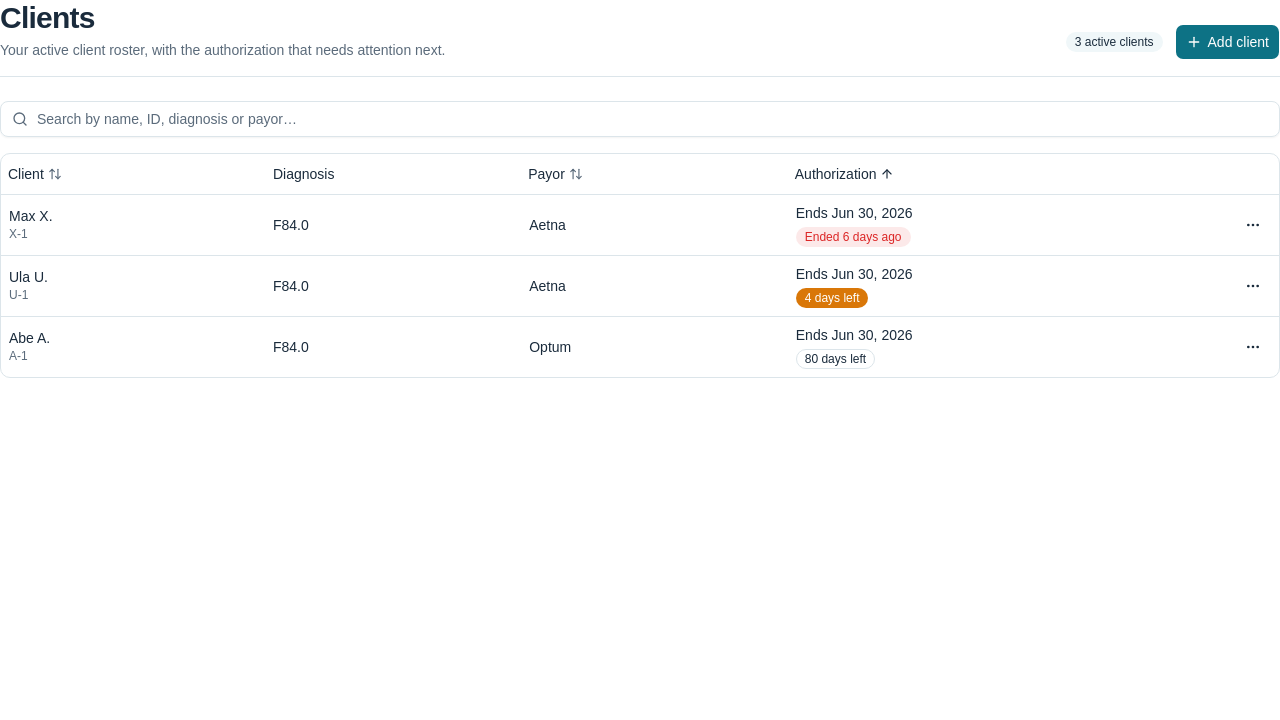
Clients page › adds a client and shows them without a reload
Expected: the text "3 active clients" is shown, 1066,32 -> 1162,52
Click the button "Add client".
click(1227, 42)  # box 1174,24 -> 1279,60
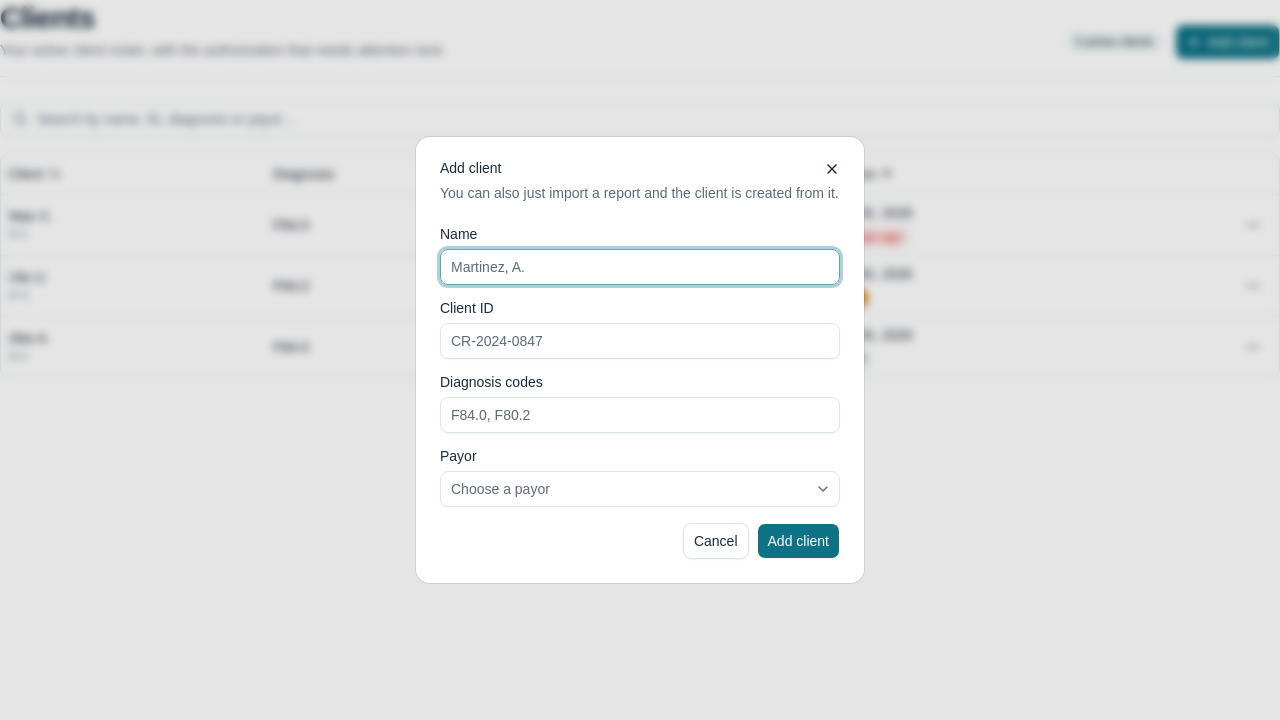
Type "Nia N." into the field labelled "Name".
click(640, 267); type("Nia N.")  # box 440,249 -> 840,285
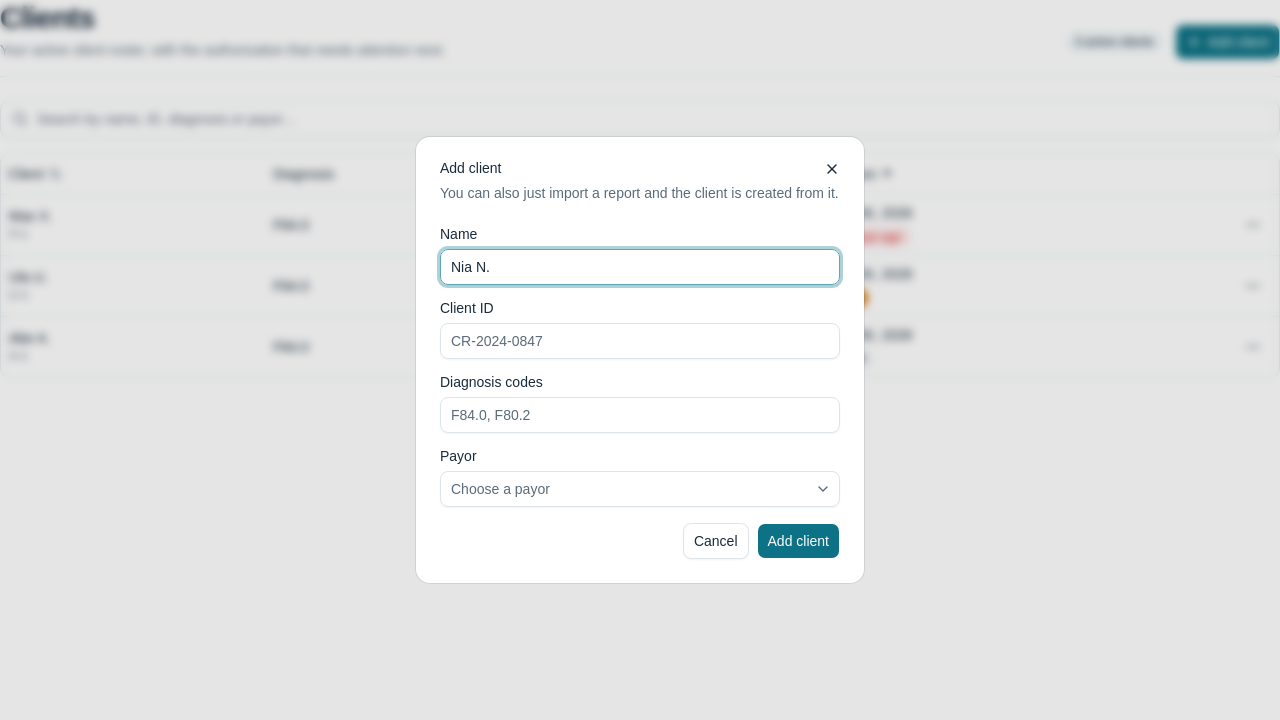
Click the dropdown labelled "payor".
click(500, 489)  # box 440,471 -> 840,507
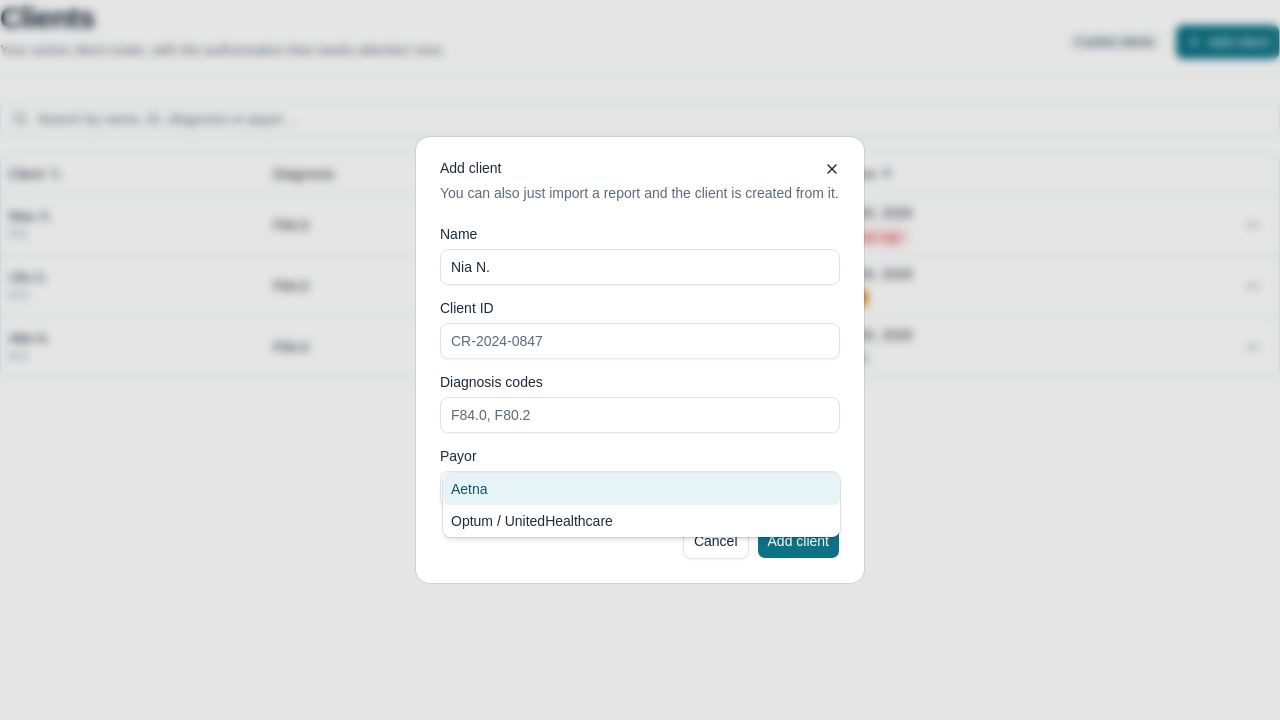
Click the option "Aetna".
click(469, 489)  # box 443,473 -> 840,505
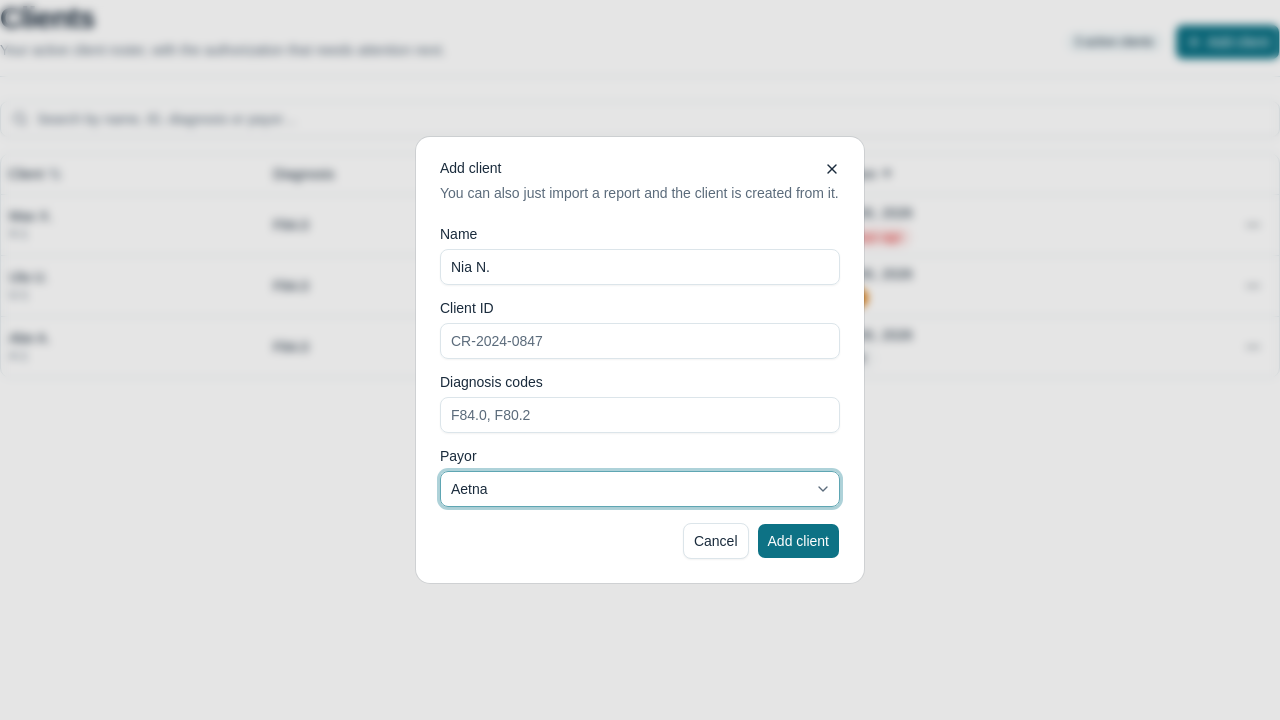
Click the button "Add client".
click(798, 541)  # box 756,523 -> 840,559
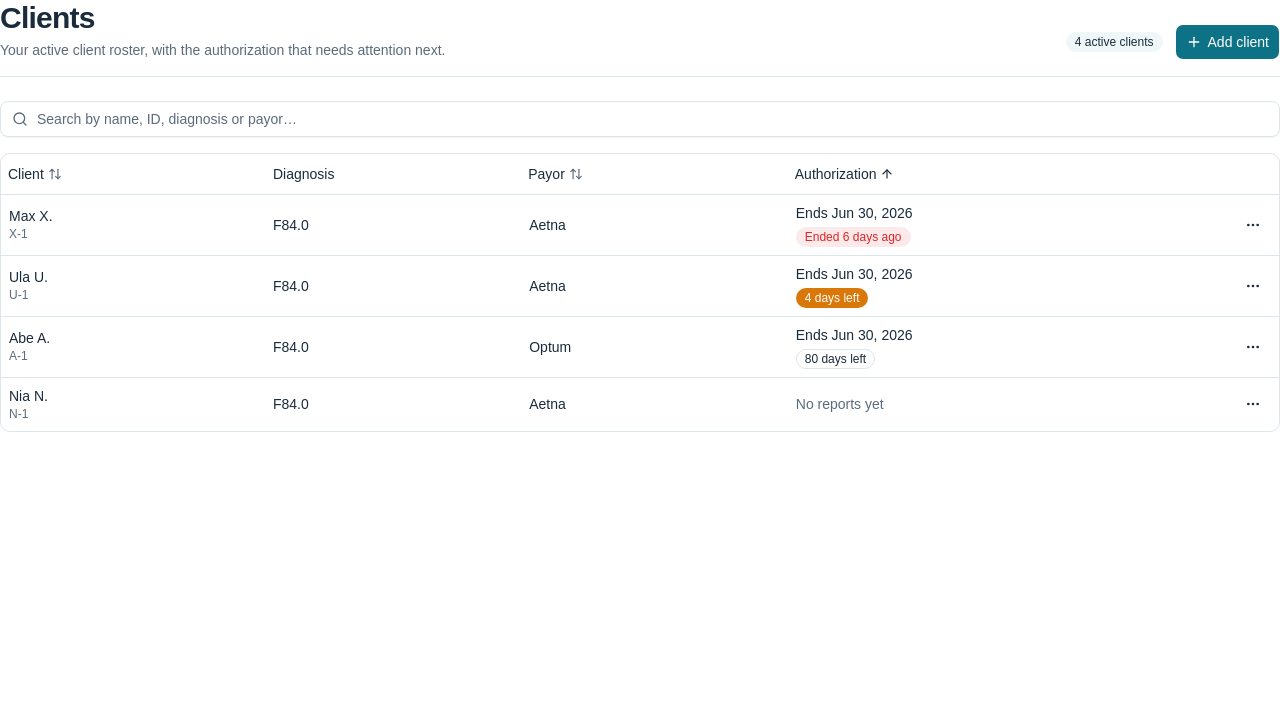
Now the text "4 active clients" is shown, box 1066,32 -> 1162,52
Now the text "No reports yet" is shown, box 796,396 -> 884,412
Now the dialog is gone
